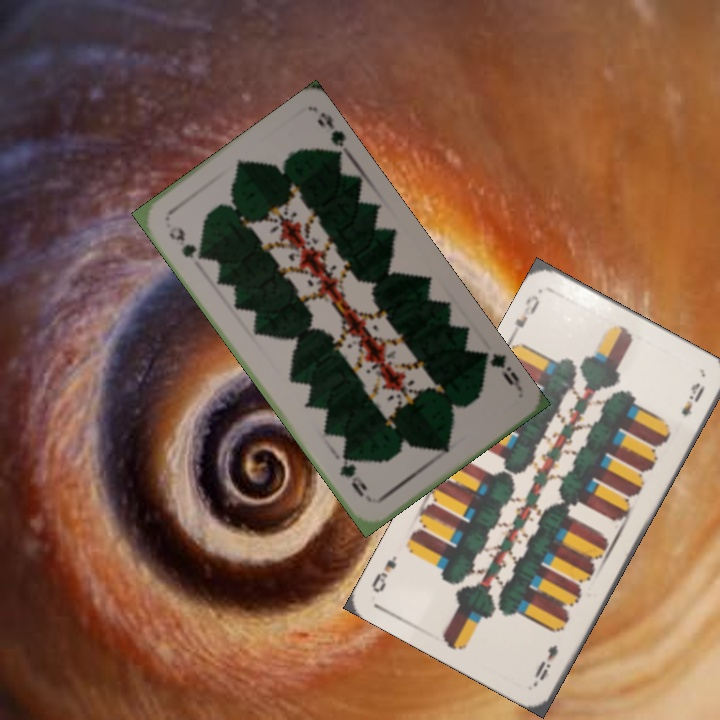E9: (509, 290, 542, 341), (530, 640, 561, 684)
G9: (478, 347, 525, 392), (165, 222, 199, 262)
